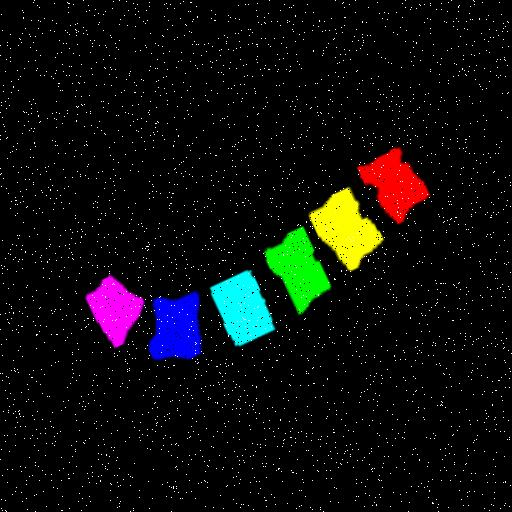L1: (354, 150, 426, 226)
L2: (305, 190, 380, 273)
L3: (260, 228, 328, 316)
L4: (206, 272, 270, 349)
L5: (145, 292, 197, 360)
S1: (81, 276, 140, 349)
